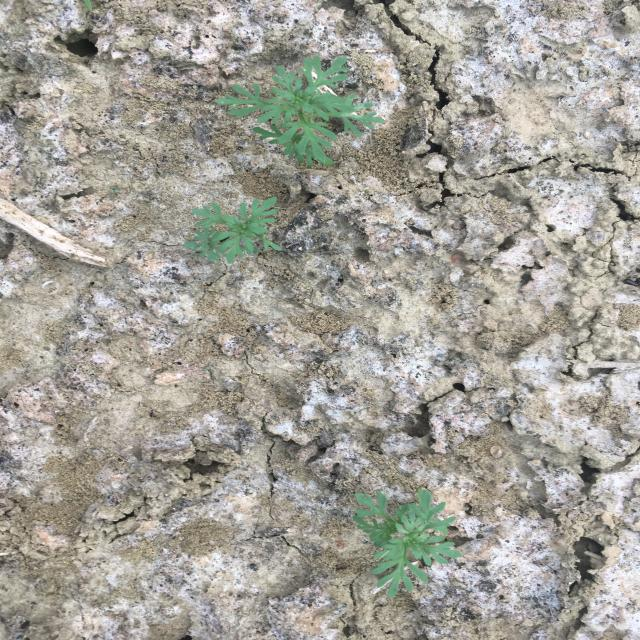Ragweed: (214, 52, 386, 168), (349, 486, 463, 602), (183, 194, 285, 266)
